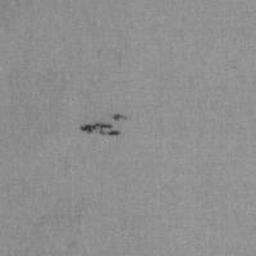Inclusion: (80, 122, 120, 136), (113, 114, 125, 121)
